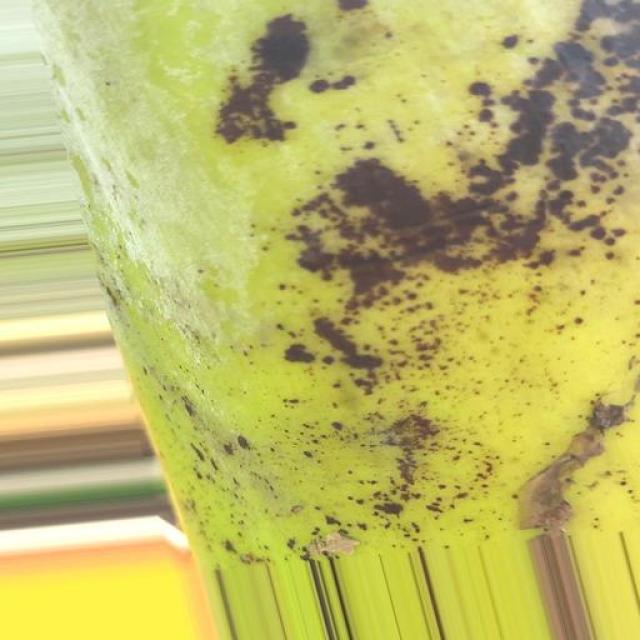Anthracnose: (26, 0, 640, 559)
